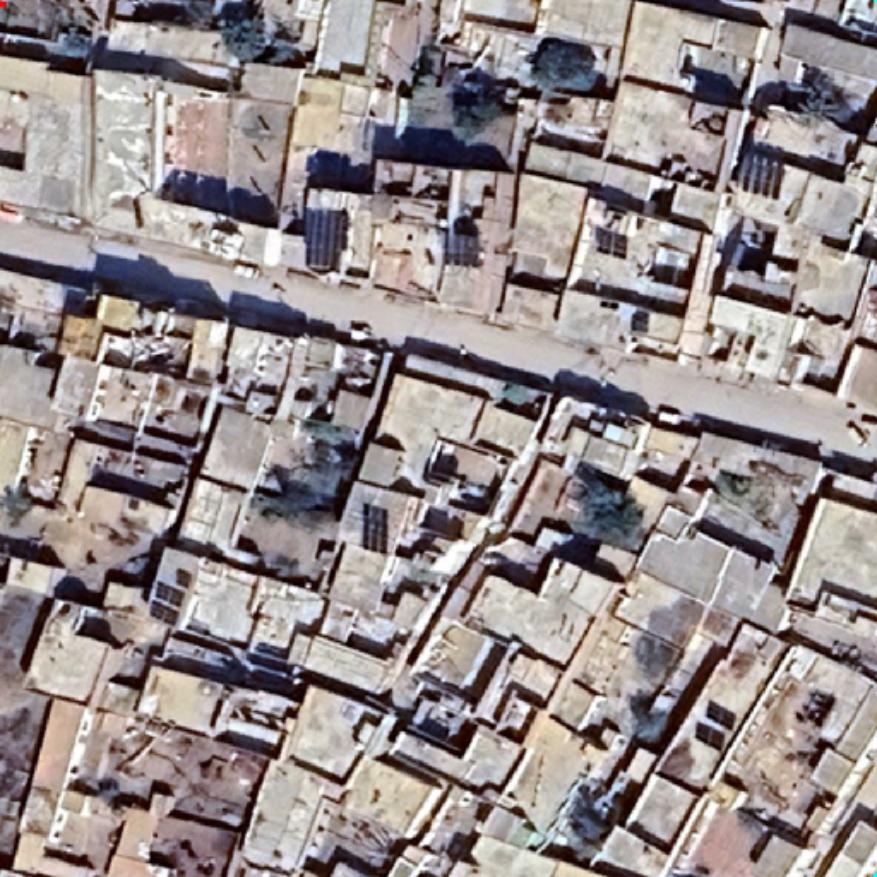Solarpanel: (300, 202, 352, 274), (734, 147, 788, 203), (356, 498, 394, 558), (142, 580, 188, 626), (440, 226, 485, 270), (590, 221, 632, 262), (702, 698, 737, 731), (696, 719, 726, 750), (172, 566, 195, 588)
